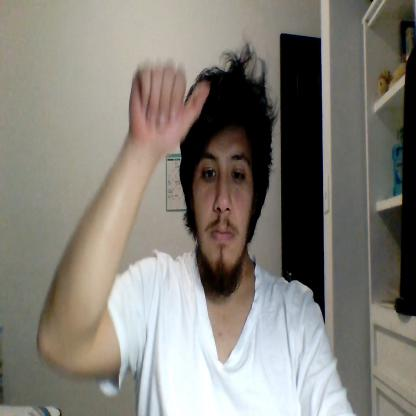A: (129, 60, 209, 149)
